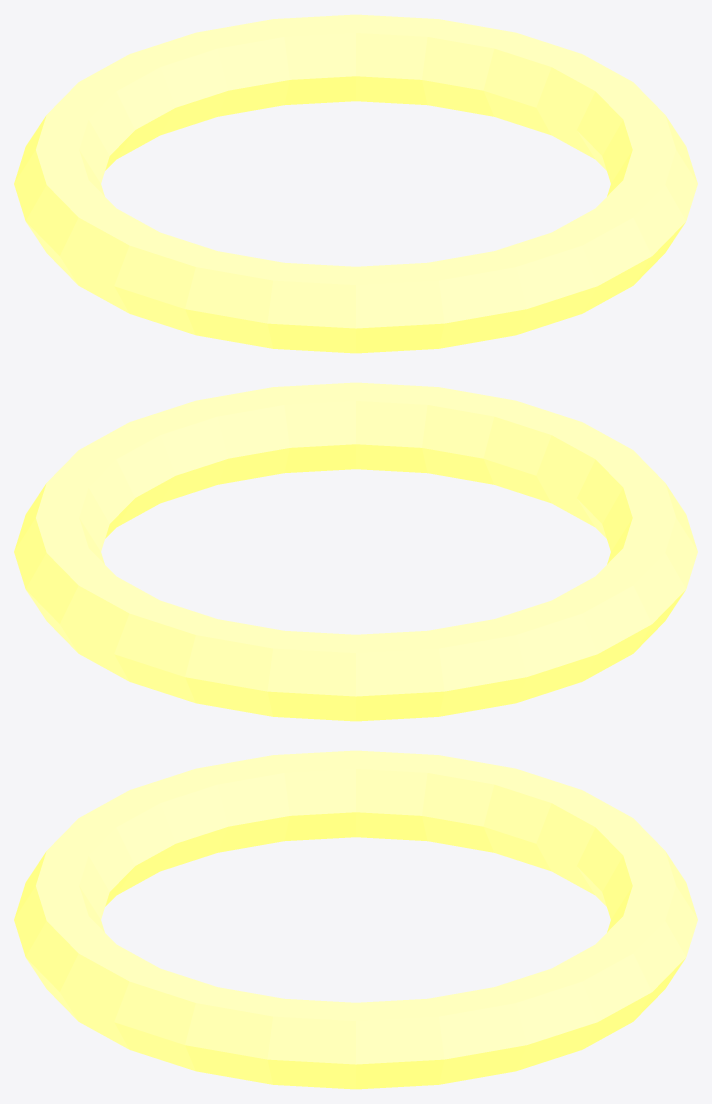
Rendered from halo.glb.
3 renders of one model, top to bottom at view 1: azimuth 30°, elevation 25°; view 2: azimuth 150°, elevation 25°; view 3: azimuth 270°, elevation 25°, orthographic.
Parts seen in each view (by area): view 1: halo; view 2: halo; view 3: halo.
Boxes of the visible parts, bbox=[...] form: halo: bbox=[14, 14, 697, 353]; halo: bbox=[14, 382, 697, 721]; halo: bbox=[14, 750, 697, 1089].
Size of the model in its own units: 0.55 by 0.0606 by 0.55.
